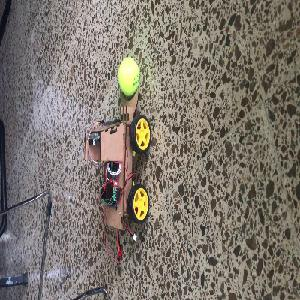Ball: (117, 58, 139, 96)
Robot: (84, 89, 151, 230)
